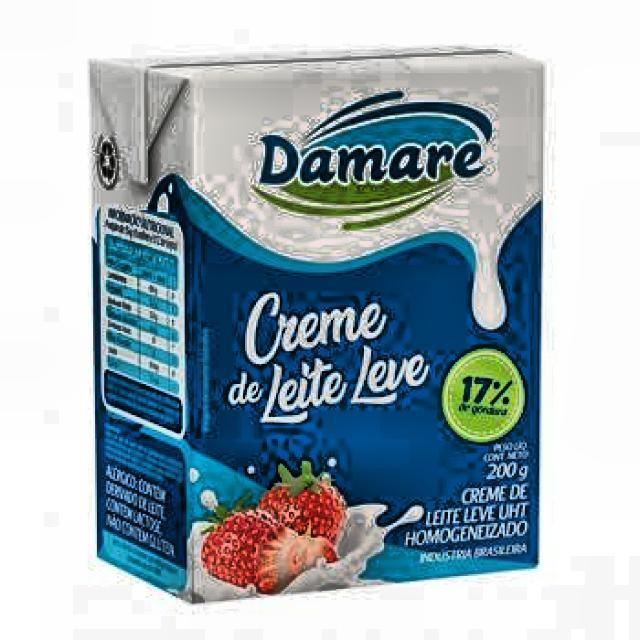cardboard: (88, 46, 545, 604)
